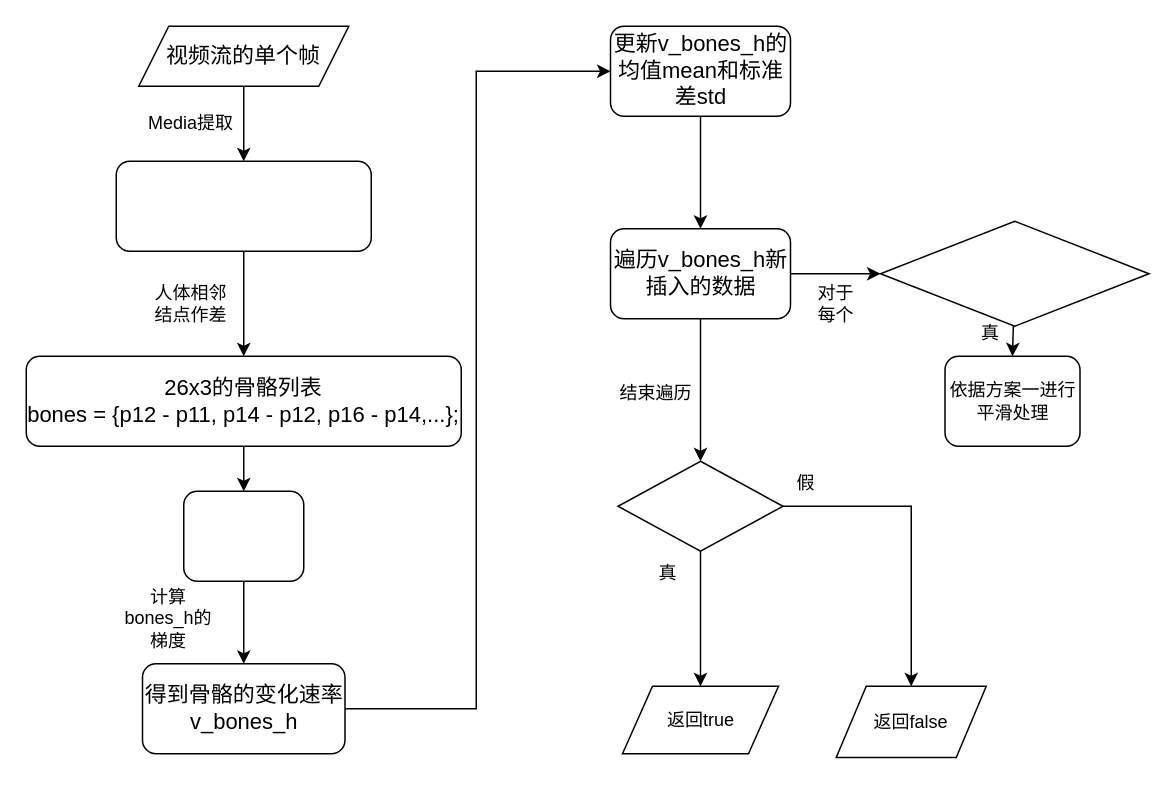
This 1176x785 diagram has some shape labels left out. Here are the shapes that lost their labels. From the top down, the box of each, then its label:
(115, 160, 371, 251): 骨骼关键点 poses = {p1, p2, ..., p33};
(879, 220, 1149, 326): v_bone > mean + n * std?
(616, 460, 783, 551): 进行过平滑?
(182, 490, 304, 581): 使用bones更新历史记录 bones_h
